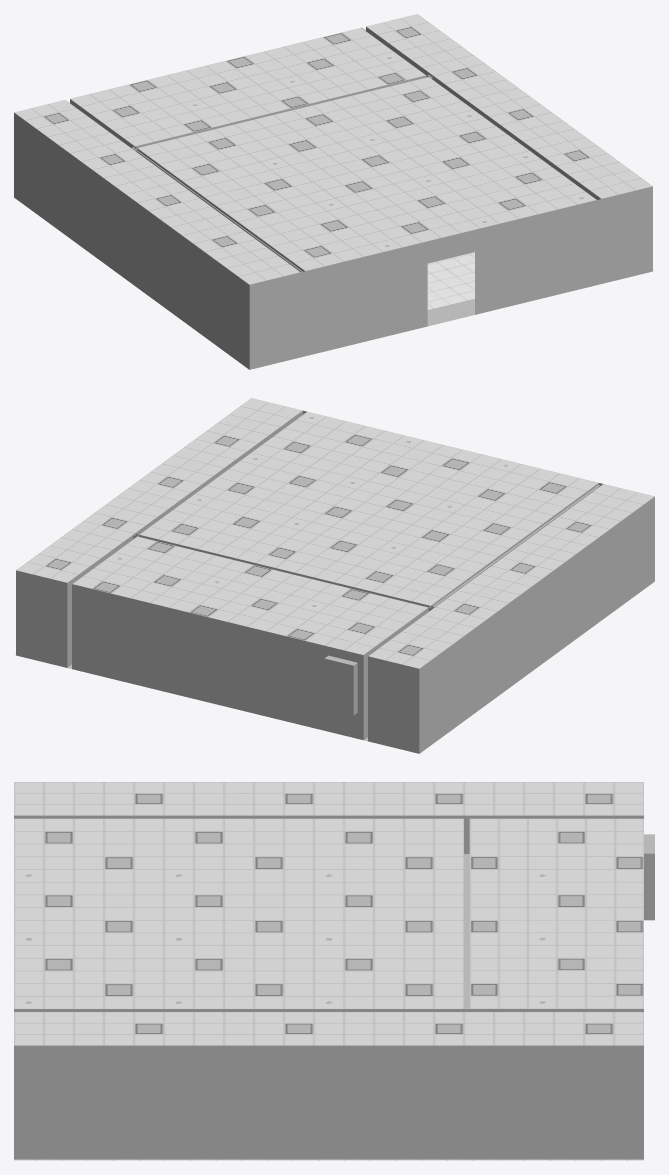
File: Lab.fbx
3 renders of one model, top to bottom at view 1: azimuth 30°, elevation 25°; view 2: azimuth 150°, elevation 25°; view 3: azimuth 270°, elevation 25°, orthographic. The views are drawn at different scales.
Parts seen in each view (by area): view 1: Roof, Wall2, Floor; view 2: Roof, Wall2; view 3: Roof, Wall2, Floor.
Boxes of the visible parts, x1,y1,x2,y2 form: Roof: (14, 14, 652, 284); Wall2: (14, 27, 652, 369); Floor: (427, 252, 654, 326); Roof: (16, 398, 654, 668); Wall2: (16, 410, 654, 753); Roof: (14, 782, 643, 1045); Wall2: (14, 815, 654, 1159); Floor: (14, 1159, 643, 1160).
Bounding box in the file's own units: 2088 × 419 × 2136.
